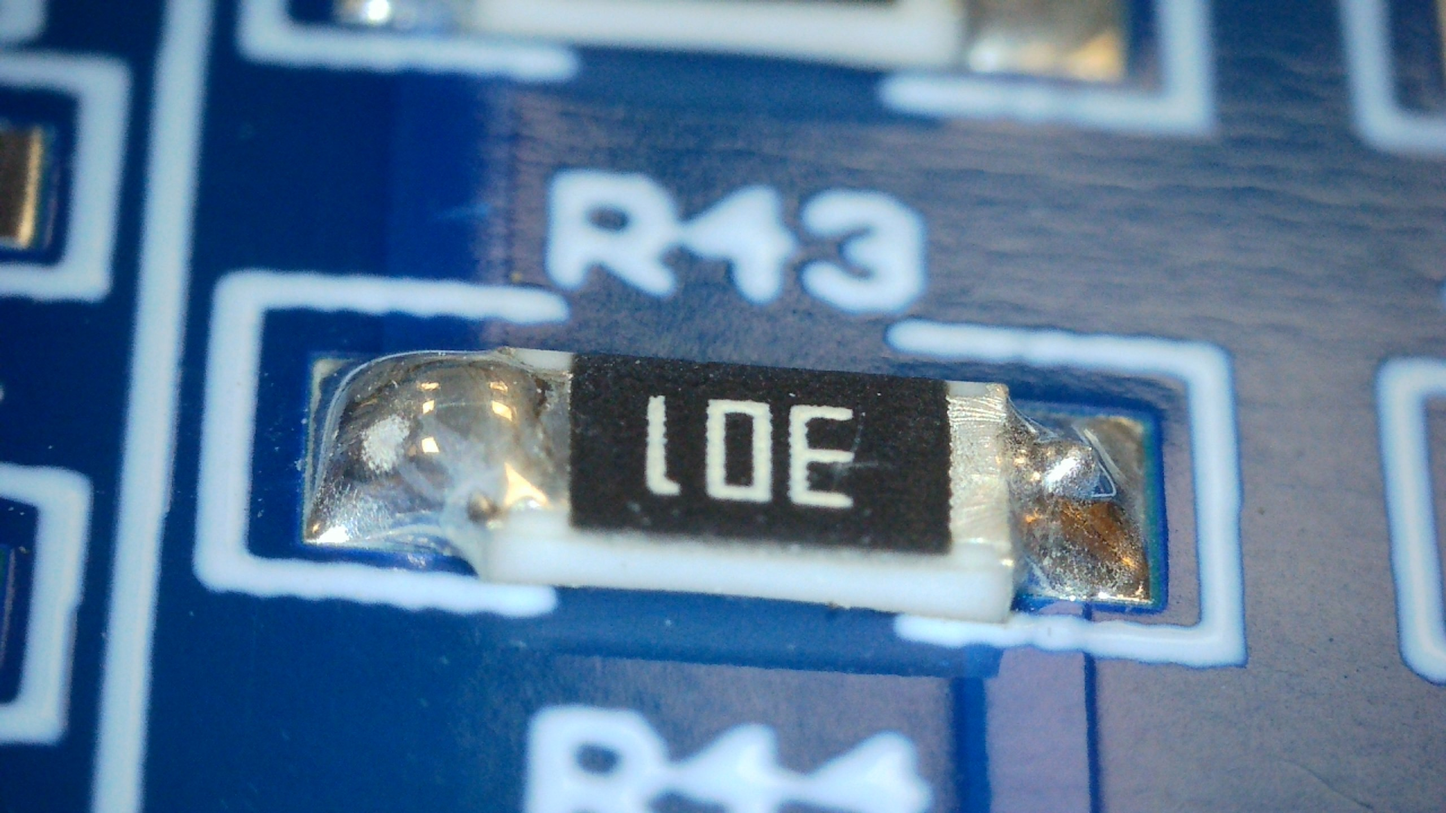NG: (307, 346, 576, 540), (951, 382, 1129, 601)
